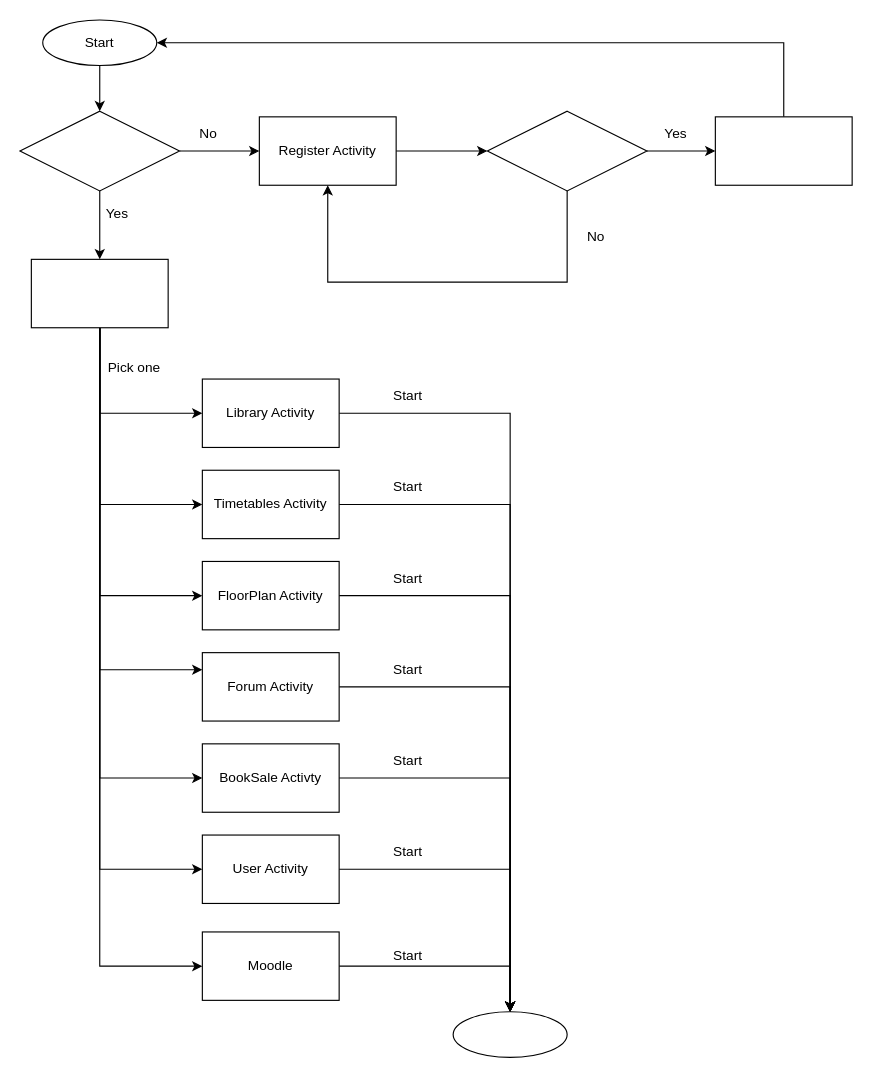
The diagram is 872 pixels wide and 1077 high, and some of its shapes have lost their labels. Here are the shapes that lost their labels. From the top down, the centre of each, then its label:
the point at 99,150: Logged in user
the point at 566,150: Successful registration
the point at 783,150: Login user
the point at 99,293: MainActivity
the point at 509,1034: Finish
